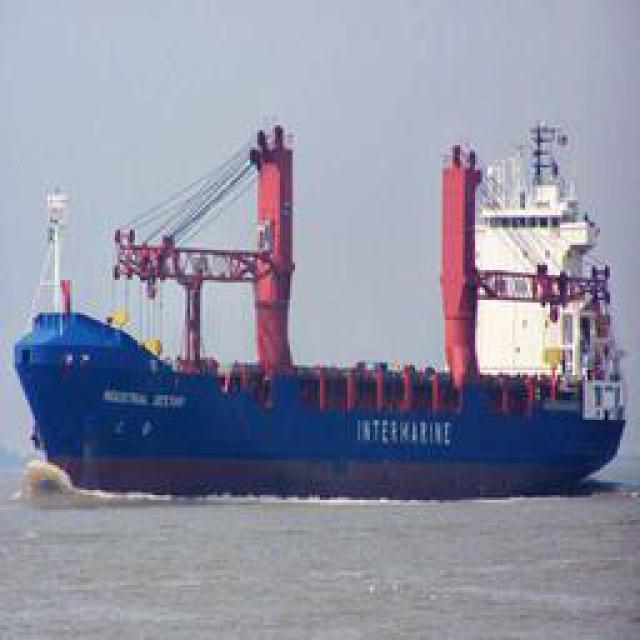Ship: (17, 116, 627, 494)
